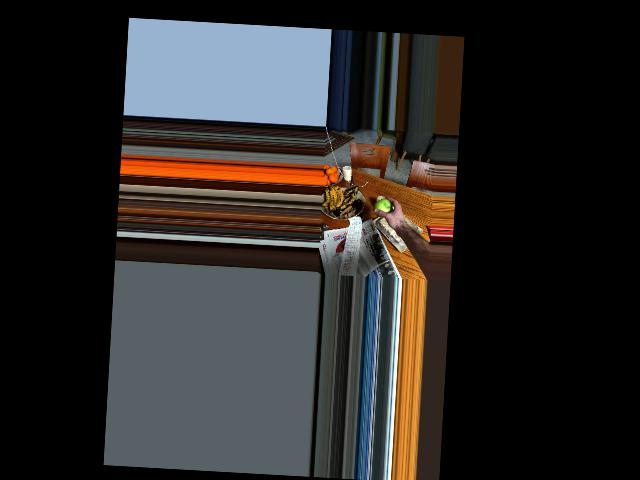apple: (374, 199, 396, 223)
